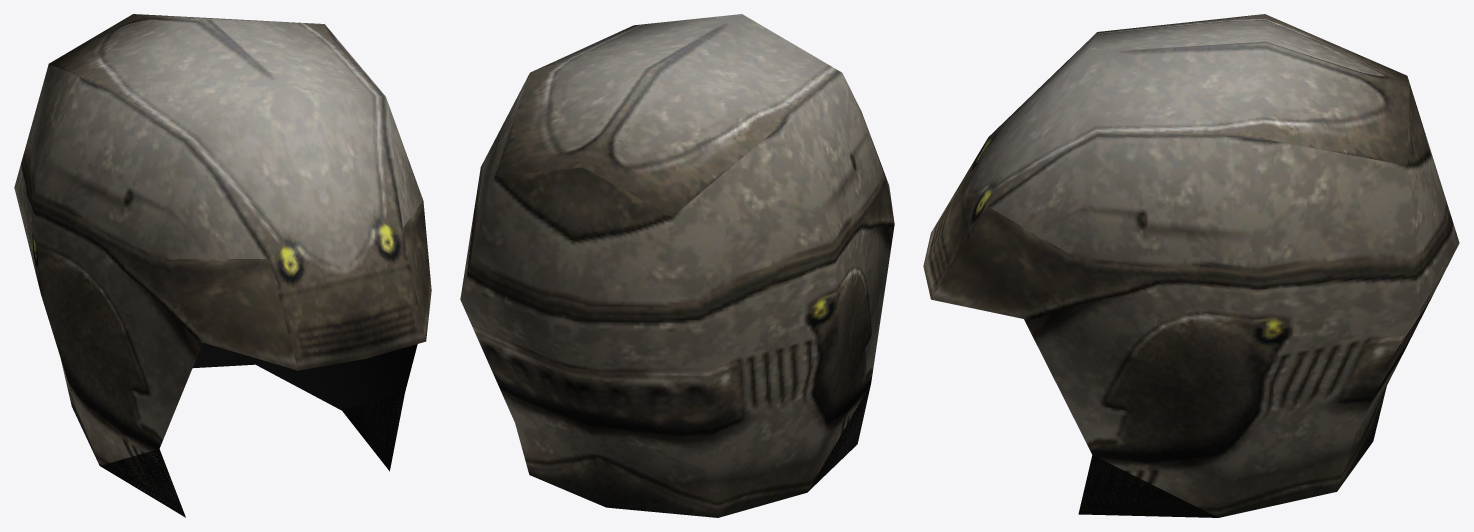
Rendered from Helmet3.glb.
3 renders of one model, left to right at view 1: azimuth 30°, elevation 25°; view 2: azimuth 150°, elevation 25°; view 3: azimuth 270°, elevation 25°, orthographic. The views are drawn at different scales.
Parts seen in each view (by area): view 1: Helmet3; view 2: Helmet3; view 3: Helmet3.
Boxes of the visible parts, box(x1,y1,x2,y2) form: Helmet3: box(14, 14, 431, 517); Helmet3: box(460, 14, 894, 517); Helmet3: box(923, 14, 1459, 517).
Size of the model in its own units: 11.49 by 13.02 by 14.97.
1 material, 1 textured.
